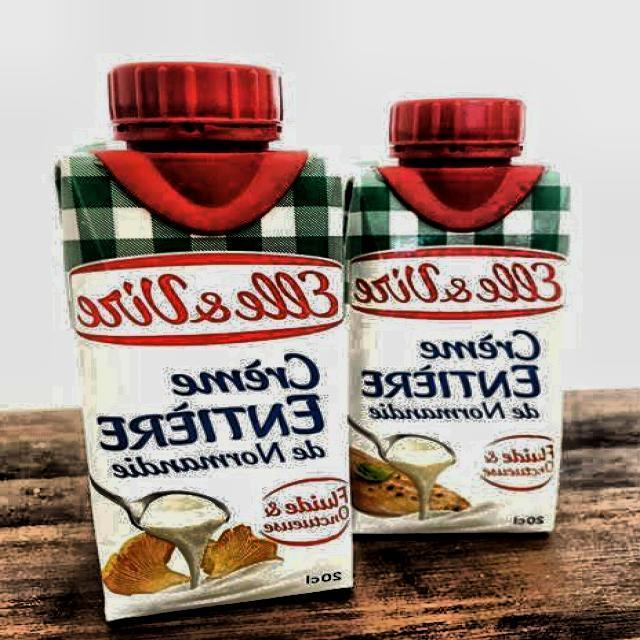cardboard: (55, 59, 355, 622), (344, 94, 572, 536)
